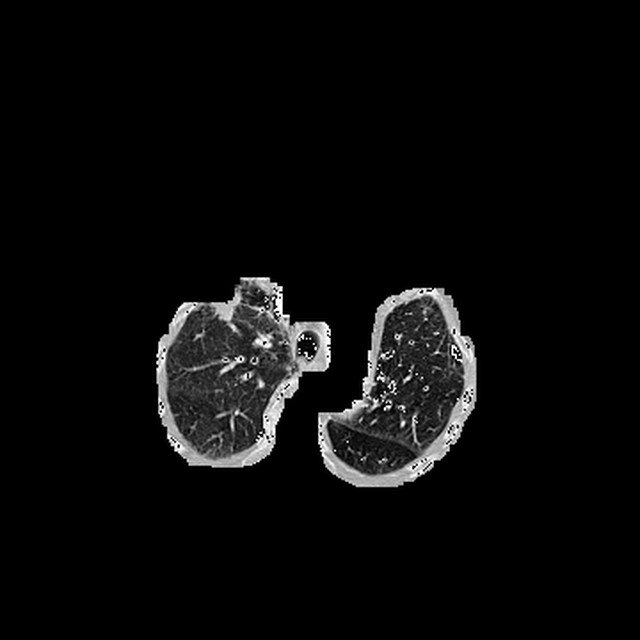PN: (210, 286, 238, 315)
